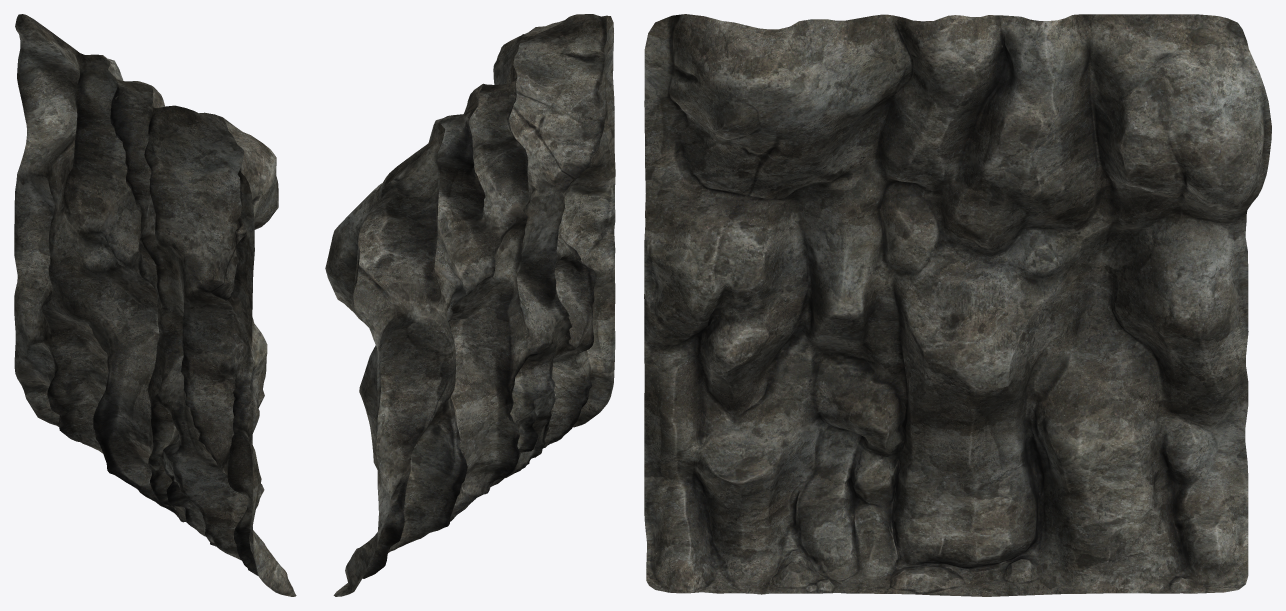
File: cave_ravine_wall_01.dae
The picture shows the model from 3 angles, left to right: view 1: azimuth 30°, elevation 25°; view 2: azimuth 150°, elevation 25°; view 3: azimuth 270°, elevation 25°; orthographic projection. The views are drawn at different scales.
Parts seen in each view (by area): view 1: wall_1_low; view 2: wall_1_low; view 3: wall_1_low.
Boxes of the visible parts, x1,y1,x2,y2 form: wall_1_low: (14,14,296,596); wall_1_low: (325,14,615,596); wall_1_low: (644,14,1271,596).
Size of what is drawn, in the model's own units: 0.8418 by 4.11 by 4.16.
